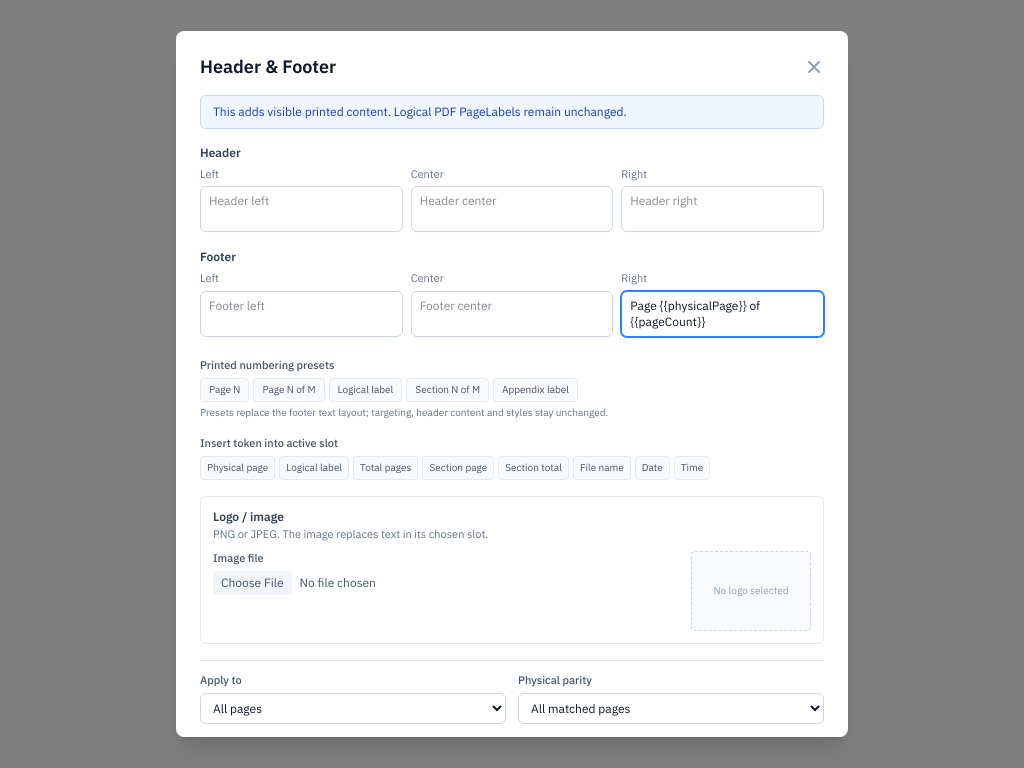
Scenario: HeaderFooterDialog › inserts canonical tokens into the active six-zone slot
Focus the text box named "Header left" at {"x": 301, "y": 209}, box [200,186,403,232]
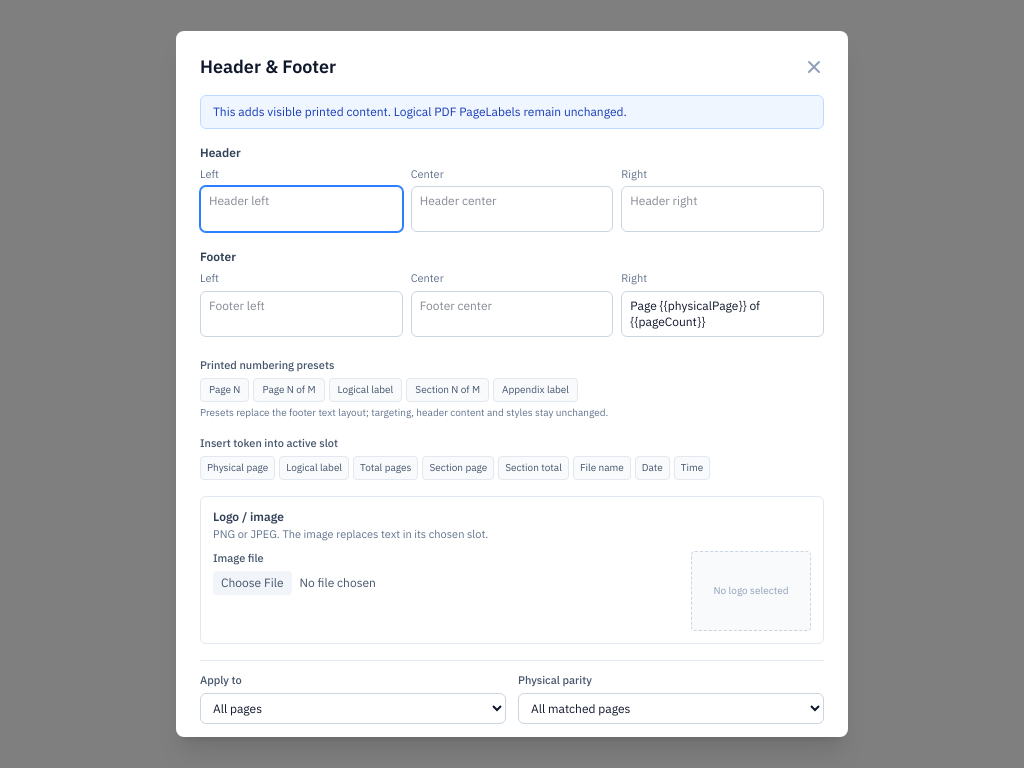
Click the button "Logical label" below "Insert token into active slot" at {"x": 314, "y": 468}, box [279,456,349,480]
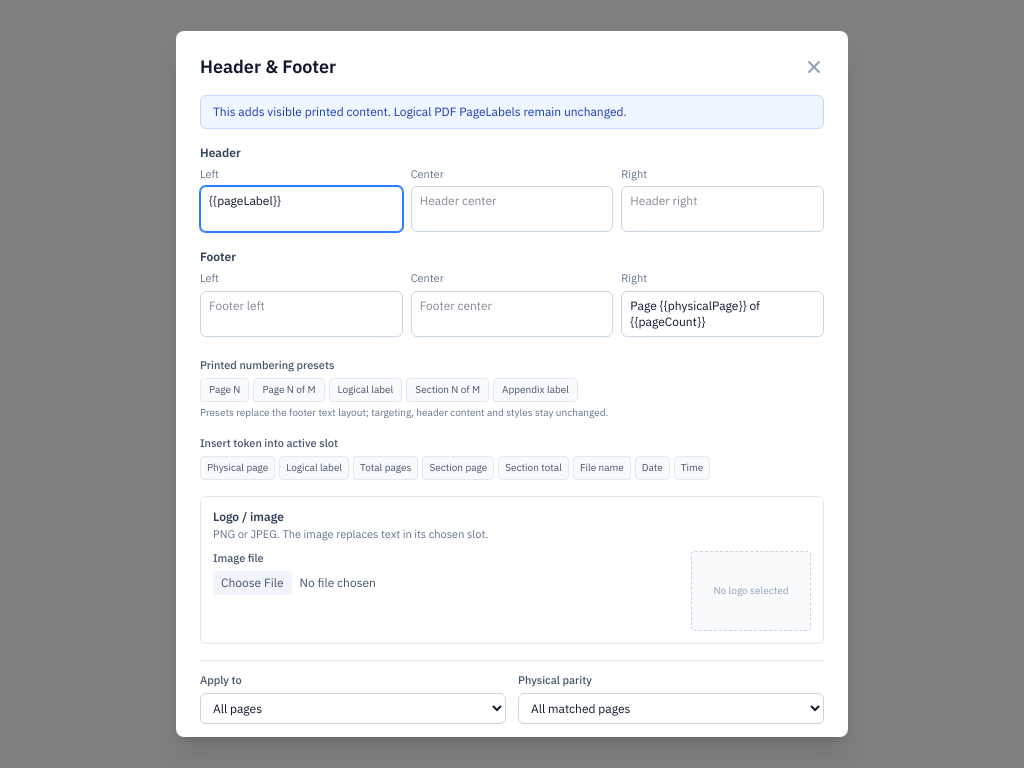
Result: the text box named "Header left" holds "{{pageLabel}}" at [200,186,403,232]
